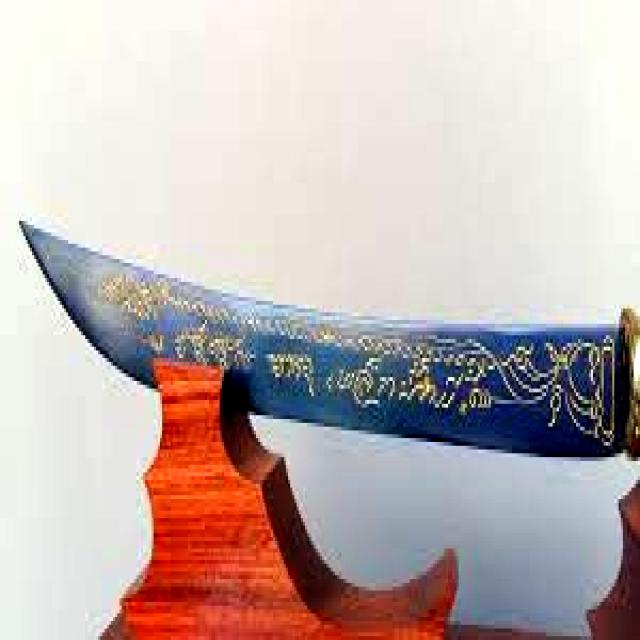long sword: (18, 210, 637, 471)
